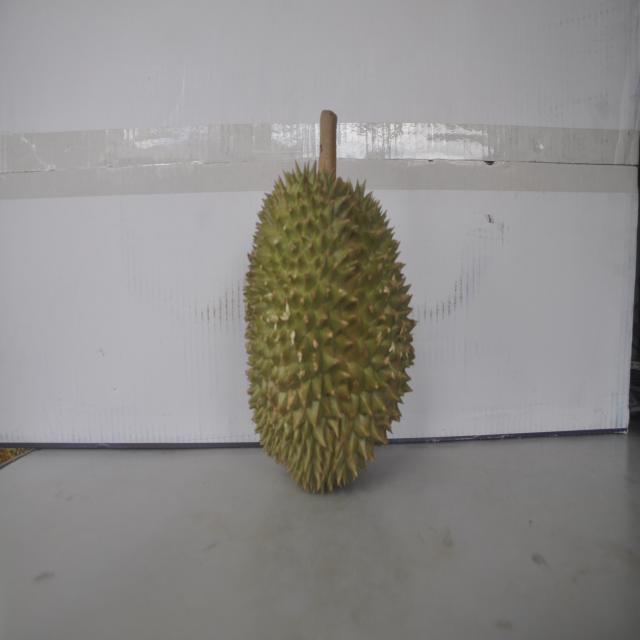mature: (239, 152, 414, 493)
